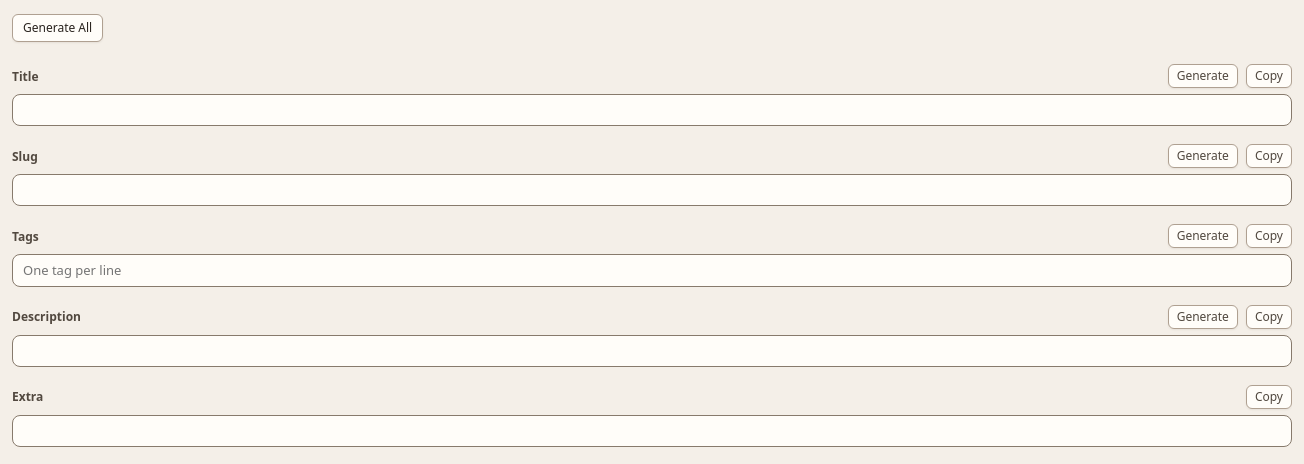
Test: MetadataTab single-field generation › generates a field, writes the value, and sends it to the store
The width and height of the screenshot is (1304, 464).
Click the button with class "meta-field-generate" in the row of "Title".
click(1203, 76)  # box [1168,64,1238,88]
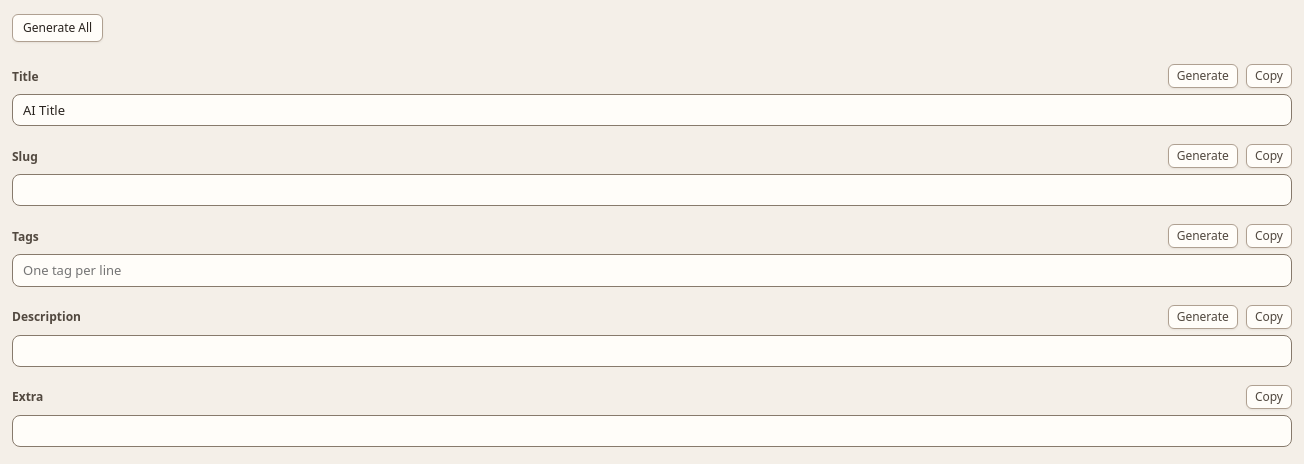
Now the text box labelled "Title" holds "AI Title", box [12,94,1292,126]
